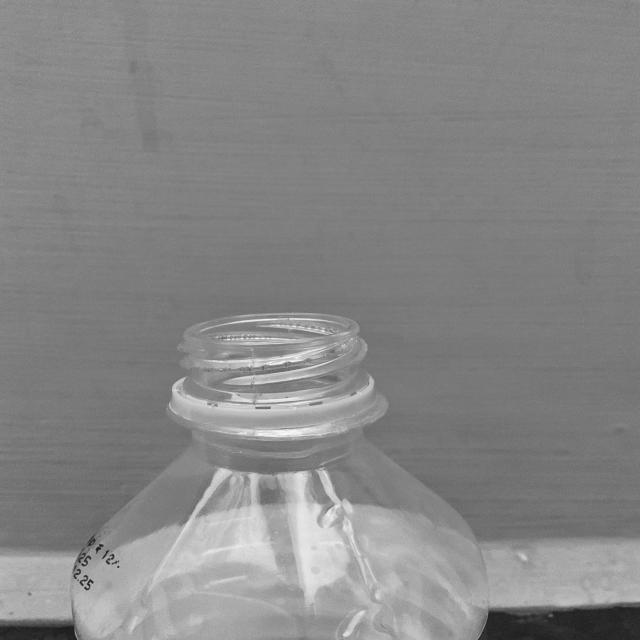open-cap: (166, 311, 380, 427)
